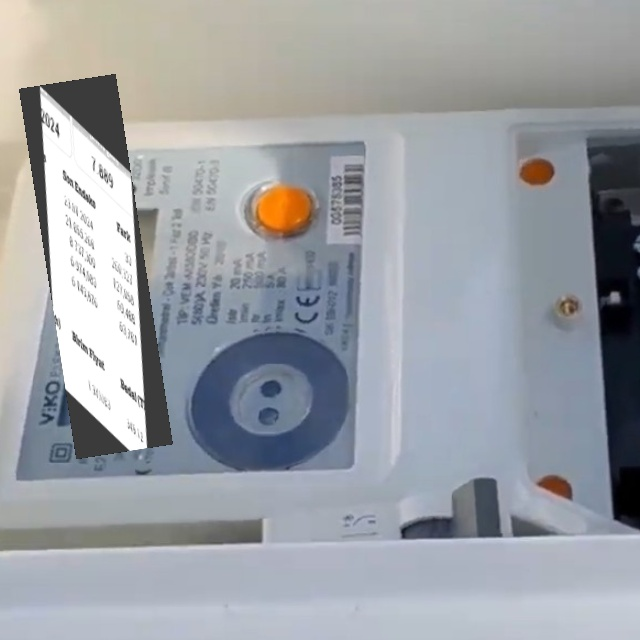electricity-bill: (19, 74, 173, 458)
